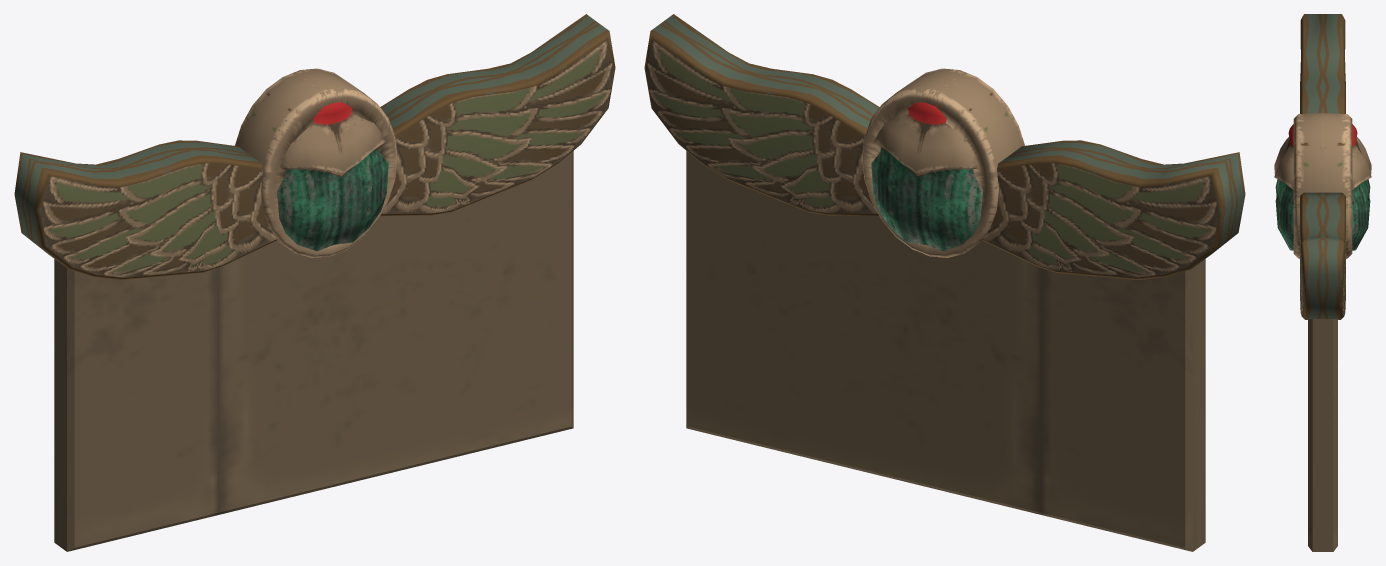
File: Leaderboard_Art.glb
3 views of the same model, side by side, from view 1: azimuth 30°, elevation 25°; view 2: azimuth 150°, elevation 25°; view 3: azimuth 270°, elevation 25° (orthographic). The views are drawn at different scales.
Parts seen in each view (by area): view 1: Leaderboard_Art; view 2: Leaderboard_Art; view 3: Leaderboard_Art.
Boxes of the visible parts, x1,y1,x2,y2 form: Leaderboard_Art: (14,14,615,551); Leaderboard_Art: (644,14,1245,551); Leaderboard_Art: (1274,14,1371,551).
Size of the model in its own units: 3.22 by 2.15 by 0.5705.
Materials: 1 (1 with a texture image).
